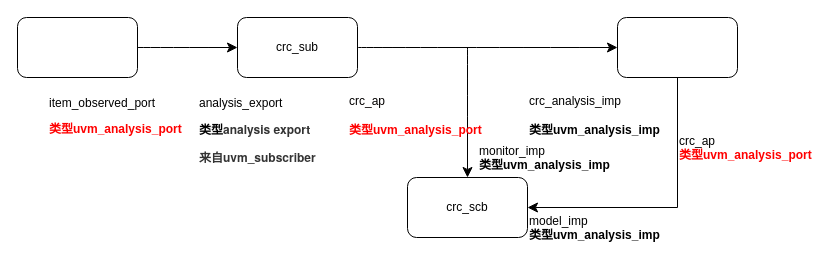
Some shapes in this 835 by 265 pixel diagram are drawn without their labels. The centre of each missing label's shape, as x and y in pixels:
"ahb.monitor" belongs at point 77,47.
"crc_refm" belongs at point 677,47.
